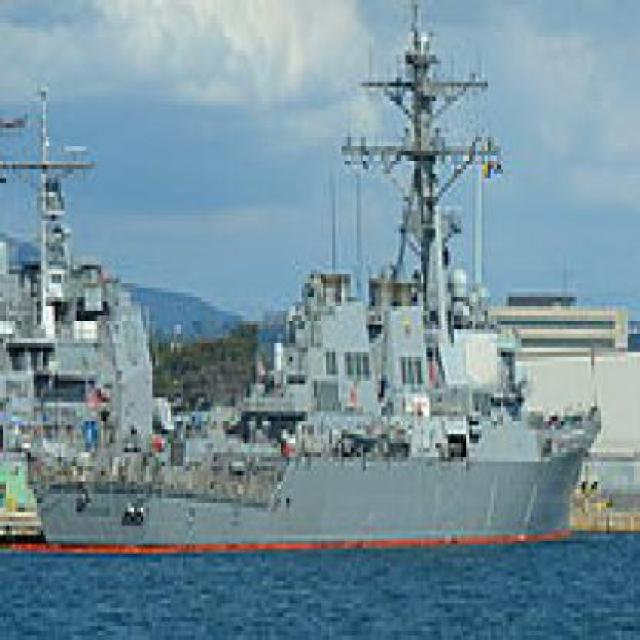warship2: (25, 23, 596, 568)
